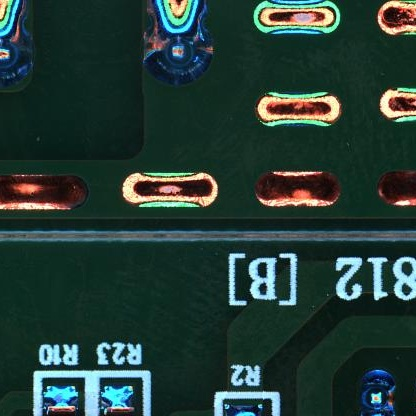spot: (142, 20, 215, 86), (1, 29, 33, 94), (360, 369, 397, 416)
